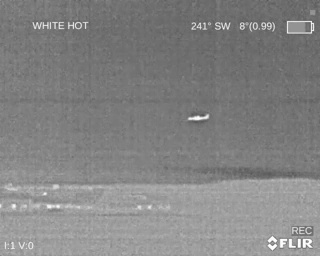AIRPLANE: (186, 112, 210, 122)
